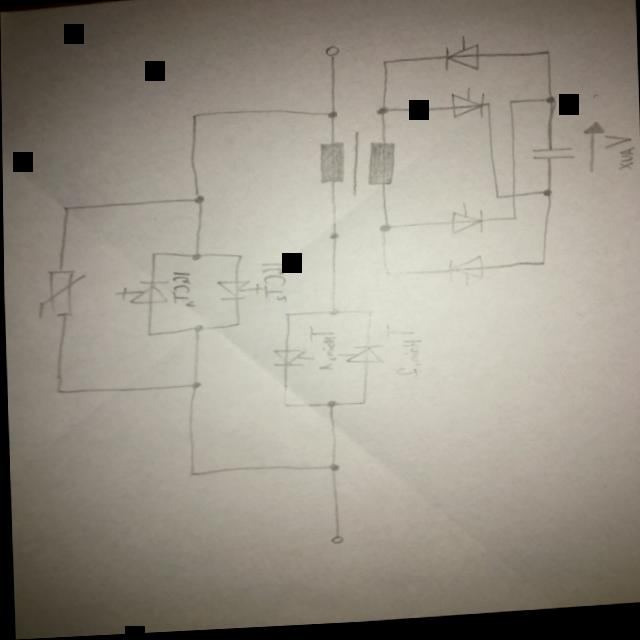capacitor: (528, 149, 574, 167)
crossover: (507, 195, 516, 203)
junction: (190, 193, 204, 206), (376, 224, 391, 236), (190, 323, 204, 334), (373, 108, 388, 118), (325, 464, 339, 474), (540, 192, 553, 202), (189, 252, 201, 262), (188, 381, 200, 391), (542, 100, 556, 108), (323, 402, 335, 411), (324, 113, 337, 121), (326, 310, 338, 318), (380, 272, 390, 281), (379, 61, 389, 70), (536, 262, 546, 271), (59, 203, 69, 212), (185, 470, 194, 479), (278, 402, 287, 410), (493, 196, 501, 205), (504, 102, 514, 109), (143, 329, 151, 337), (53, 386, 61, 394), (356, 402, 364, 409), (281, 312, 289, 319), (235, 253, 243, 260), (148, 251, 156, 258), (542, 53, 550, 60), (509, 219, 517, 226), (230, 322, 239, 328), (363, 311, 371, 317), (189, 113, 197, 119), (483, 104, 491, 110)
terminal: (322, 46, 339, 61), (326, 536, 343, 547)
text: (381, 323, 421, 382), (305, 326, 336, 373), (601, 137, 634, 178), (258, 262, 288, 306), (168, 270, 195, 309)
thyristor: (112, 278, 168, 307), (441, 36, 479, 76), (446, 256, 483, 291), (447, 203, 482, 239), (448, 89, 483, 125), (335, 345, 383, 370), (213, 278, 260, 303), (269, 347, 313, 372)
transformer: (316, 131, 396, 202)
